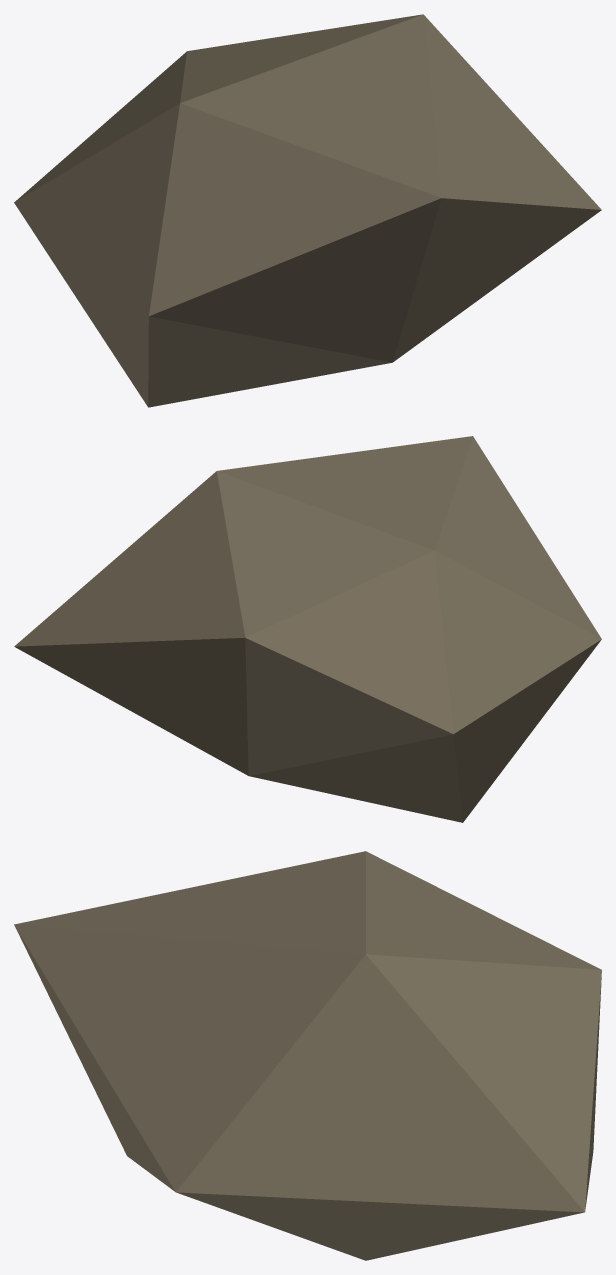
The model's file is rock_small.glb.
3 renders of one model, top to bottom at view 1: azimuth 30°, elevation 25°; view 2: azimuth 150°, elevation 25°; view 3: azimuth 270°, elevation 25°, orthographic. The views are drawn at different scales.
Visible parts, largest first — view 1: model; view 2: model; view 3: model.
Part boxes in pixels (<box>): model: <box>14,14,601,407</box>; model: <box>14,436,601,822</box>; model: <box>14,851,601,1260</box>.
Size of the model in its own units: 1.14 by 0.7325 by 1.04.
